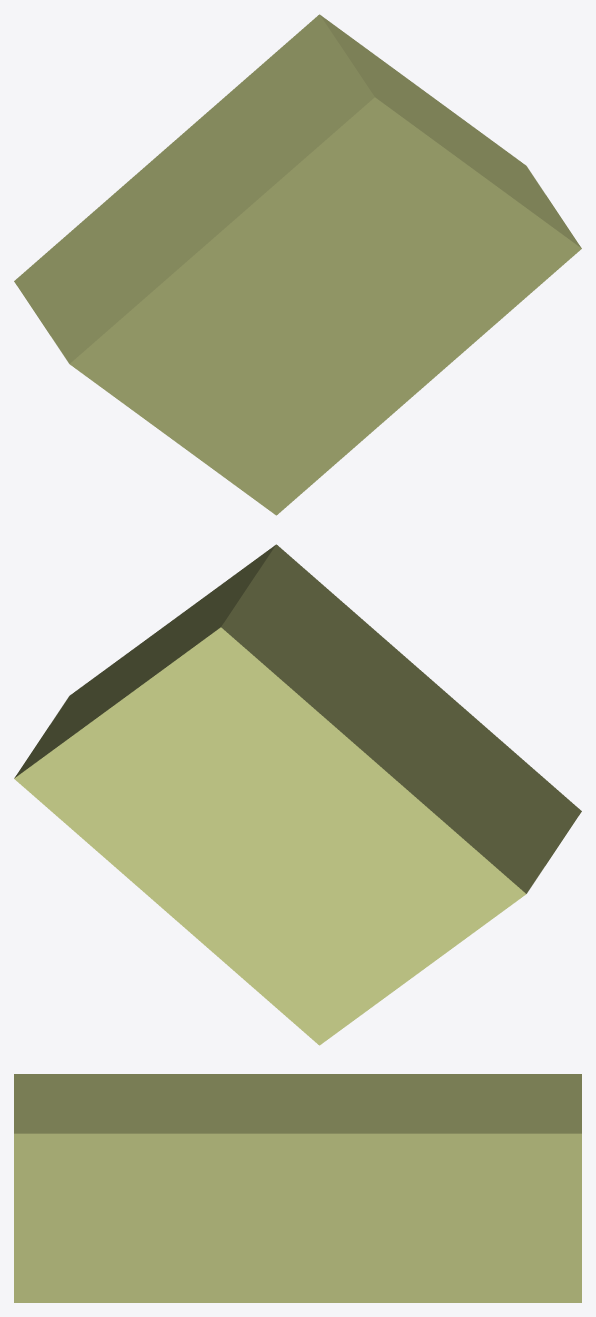
3 views of the same model, one above another, from view 1: azimuth 30°, elevation 25°; view 2: azimuth 150°, elevation 25°; view 3: azimuth 270°, elevation 25° (orthographic). The views are drawn at different scales.
Parts seen in each view (by area): view 1: 0_0_1_1_2_1_2_1_3; view 2: 0_0_1_1_2_1_2_1_3; view 3: 0_0_1_1_2_1_2_1_3.
Boxes of the visible parts, box(x1,y1,x2,y2) form: 0_0_1_1_2_1_2_1_3: box(14, 14, 581, 515); 0_0_1_1_2_1_2_1_3: box(14, 544, 581, 1045); 0_0_1_1_2_1_2_1_3: box(14, 1074, 581, 1302).
Bounding box in the file's own units: 9.06 × 6.93 × 9.
